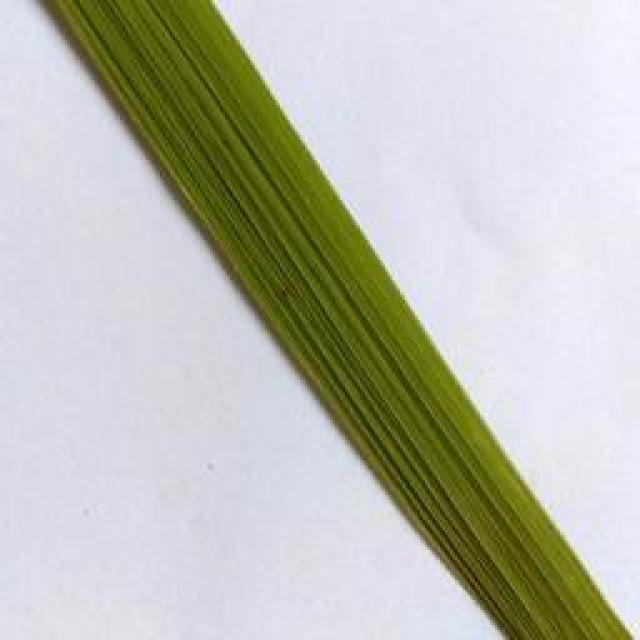Healthy-Plant: (38, 0, 630, 640)
